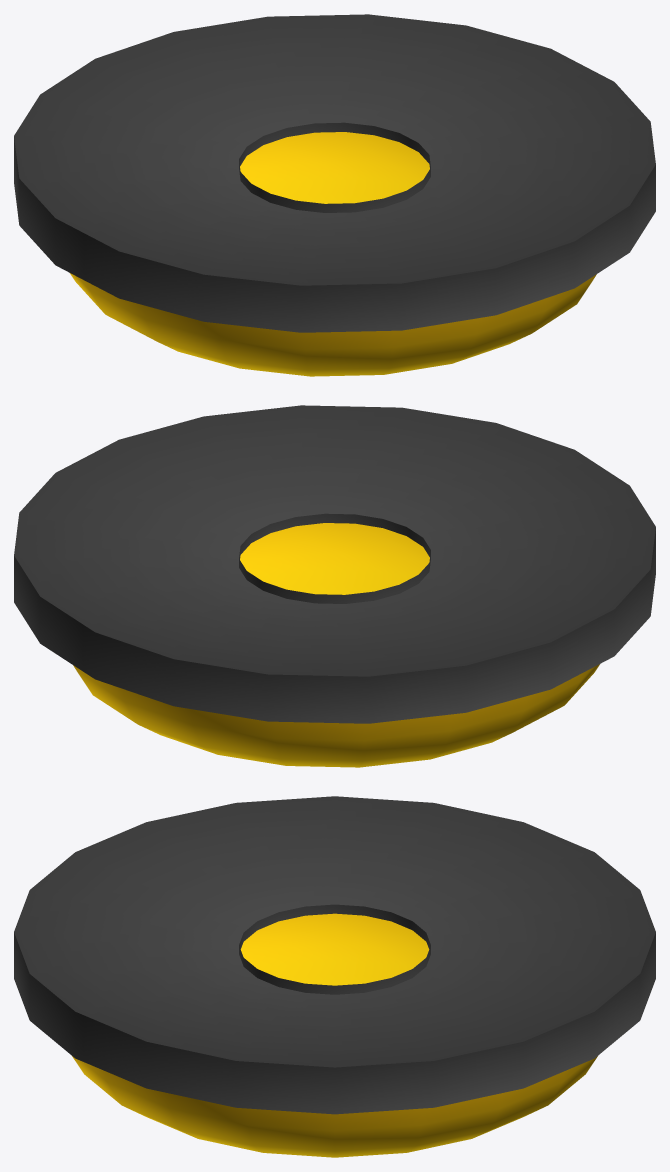
File: SM_LuzTecho.fbx
3 renders of one model, top to bottom at view 1: azimuth 30°, elevation 25°; view 2: azimuth 150°, elevation 25°; view 3: azimuth 270°, elevation 25°, orthographic.
Visible parts, largest first — view 1: LuzTecho; view 2: LuzTecho; view 3: LuzTecho.
Boxes of the visible parts, <box> form: LuzTecho: <box>14,14,655,376</box>; LuzTecho: <box>14,405,655,767</box>; LuzTecho: <box>14,796,655,1157</box>.
Size of the model in its own units: 51.06 by 14.1 by 51.06.
